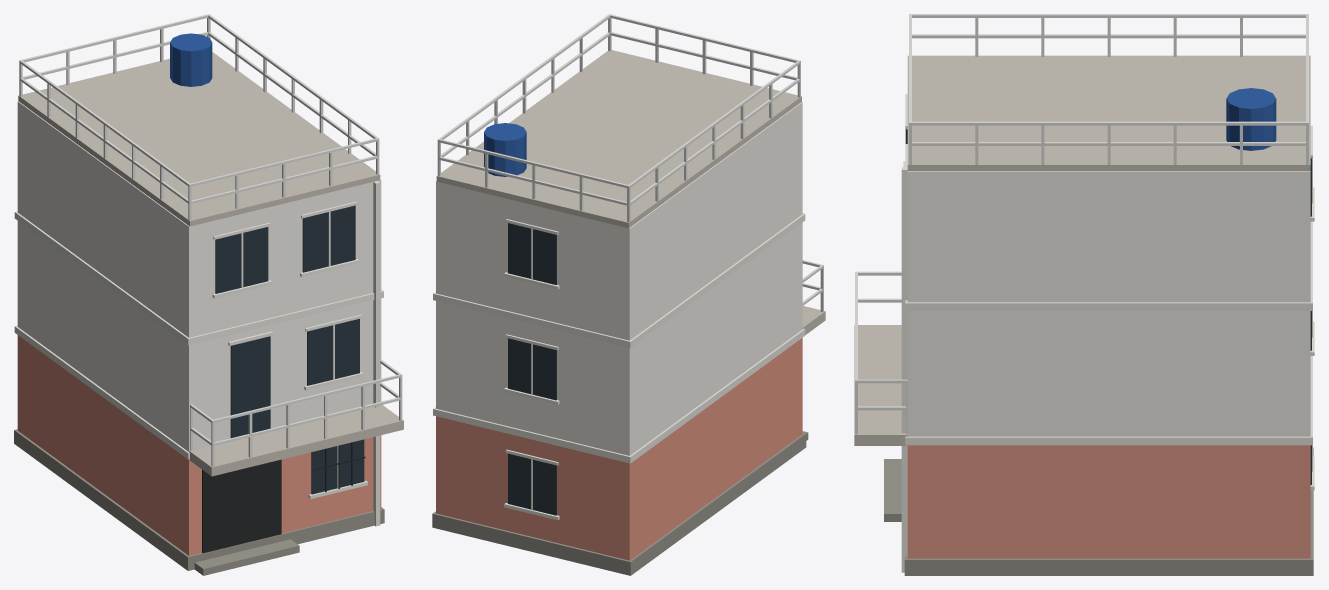
The model's file is BAY_F_ThreeStorey_K.glb.
3 views of the same model, side by side, from view 1: azimuth 30°, elevation 25°; view 2: azimuth 150°, elevation 25°; view 3: azimuth 270°, elevation 25° (orthographic). The views are drawn at different scales.
Parts seen in each view (by area): view 1: BAY_F_ThreeStorey_K; view 2: BAY_F_ThreeStorey_K; view 3: BAY_F_ThreeStorey_K.
Part boxes in pixels (left/top/right/bottom): BAY_F_ThreeStorey_K: left=14, top=14, right=403, bottom=575; BAY_F_ThreeStorey_K: left=432, top=14, right=825, bottom=575; BAY_F_ThreeStorey_K: left=854, top=14, right=1314, bottom=575.
Size of the model in its own units: 4.5 by 8.4 by 7.77.
1 material, 1 textured.
